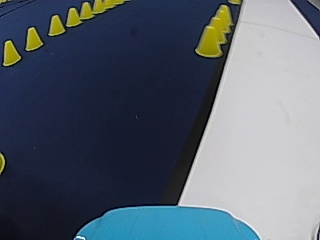cone: (193, 23, 223, 58), (212, 3, 233, 33), (207, 14, 228, 44), (2, 39, 20, 65), (24, 26, 42, 50), (47, 14, 65, 35), (65, 6, 81, 26), (79, 1, 92, 19), (92, 0, 103, 13)
